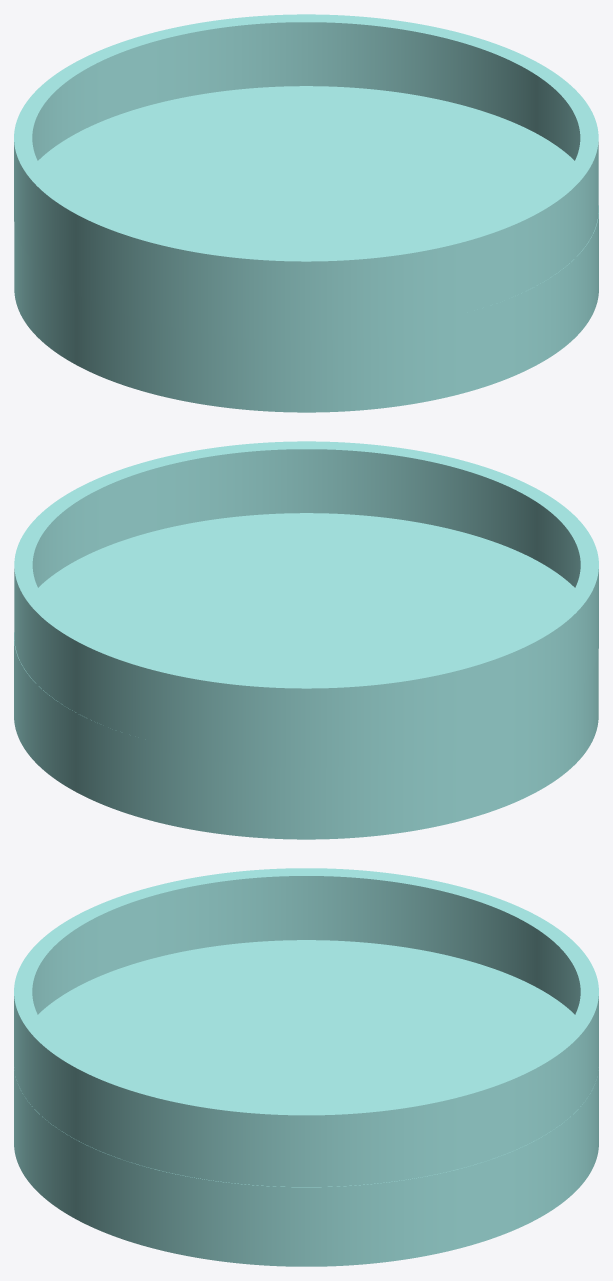
The model's file is mobileplatform7.fbx.
3 renders of one model, top to bottom at view 1: azimuth 30°, elevation 25°; view 2: azimuth 150°, elevation 25°; view 3: azimuth 270°, elevation 25°, orthographic.
Visible parts, largest first — view 1: Cylinder.007; view 2: Cylinder.007; view 3: Cylinder.007.
Boxes of the visible parts, left/top/right/bottom form: Cylinder.007: left=14, top=14, right=598, bottom=412; Cylinder.007: left=14, top=441, right=598, bottom=839; Cylinder.007: left=14, top=868, right=598, bottom=1266.
Bounding box in the file's own units: 6902 × 1967 × 6897.
